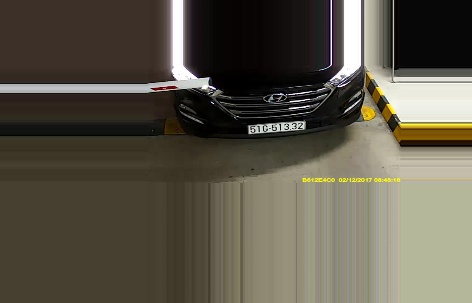plate: (244, 117, 308, 137)
